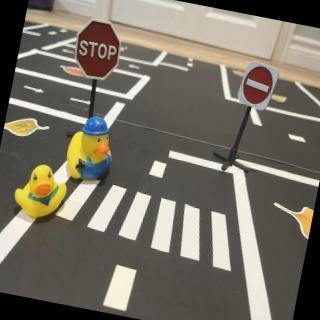duck_regular: (8, 159, 71, 225)
duck_specialty: (61, 110, 123, 186)
road_crosswalk: (45, 162, 251, 276)
road_oneway: (67, 92, 95, 111), (21, 82, 48, 98), (124, 61, 146, 73), (63, 47, 77, 58)
sign_noentry: (234, 58, 285, 118)
sign_stop: (70, 16, 128, 85)
